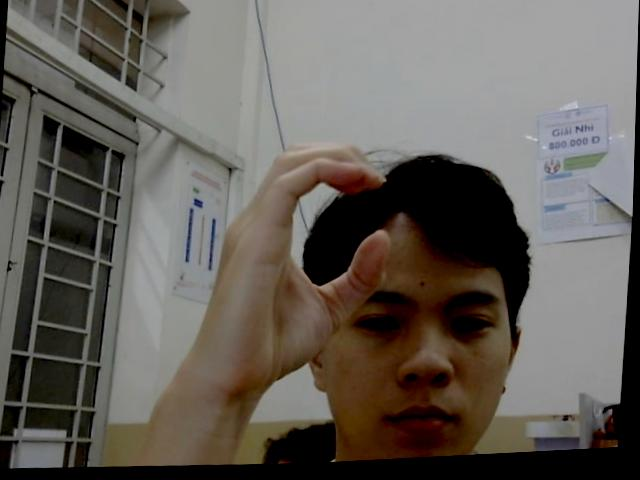C: (183, 136, 398, 396)
